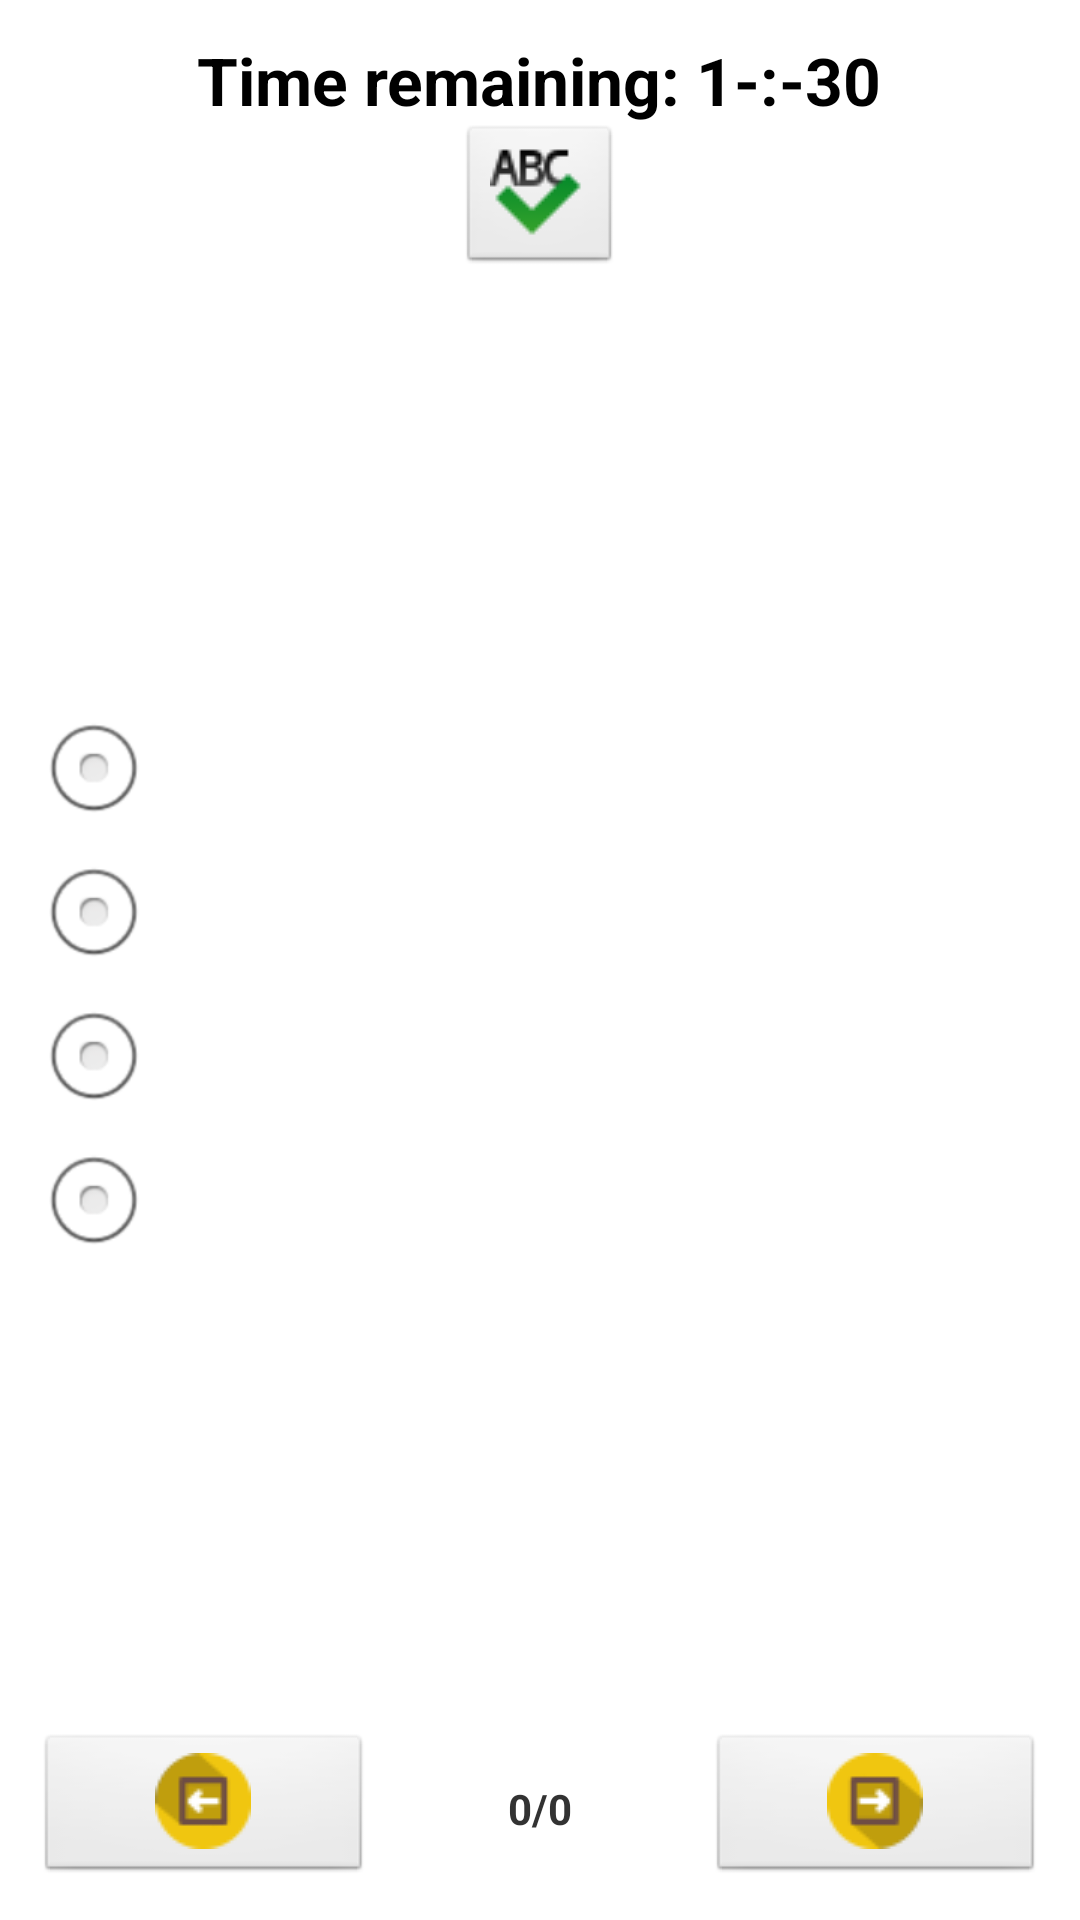

Where to tap for icons on this 1080×1920 app screen, as [x,y]:
back: [203,1803]
done: [539,194]
next: [875,1803]
